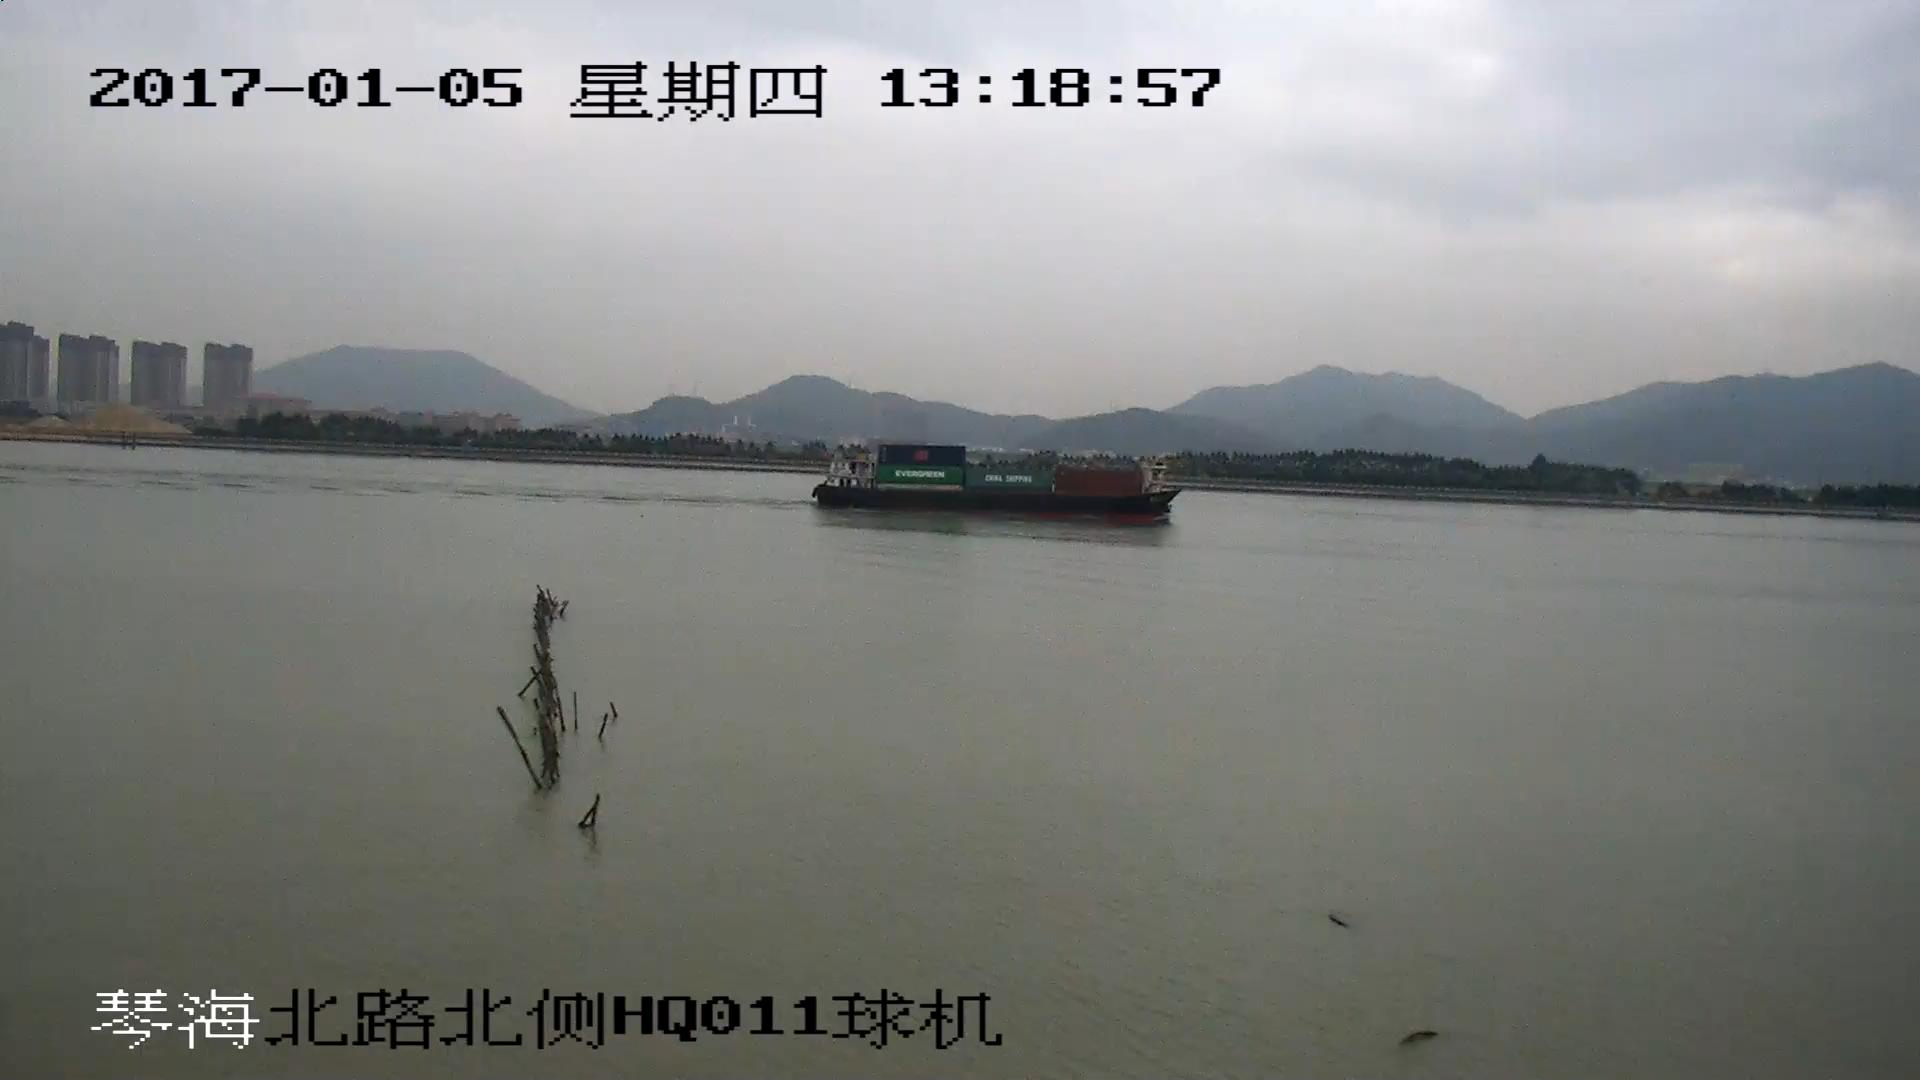container ship: (803, 442, 1175, 524)
